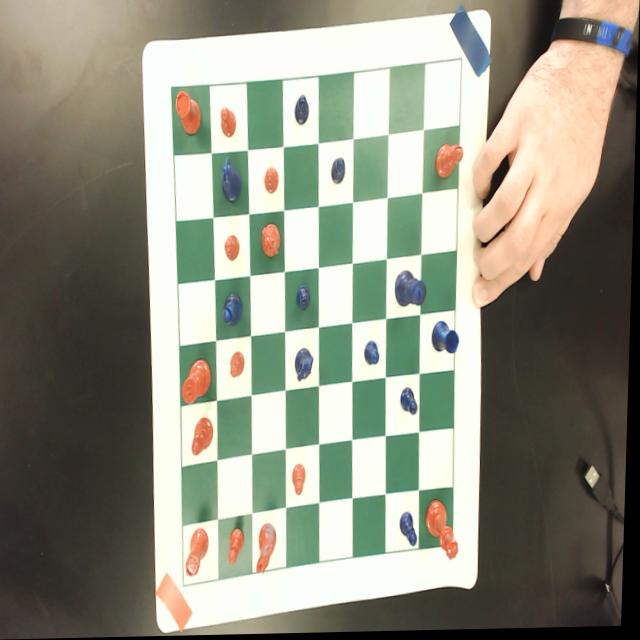B: (225, 292, 245, 328)
K: (396, 270, 429, 310)
N: (220, 155, 243, 204), (296, 347, 317, 383)
P: (403, 514, 421, 549), (402, 389, 421, 419), (295, 96, 311, 128), (331, 157, 347, 188), (366, 343, 382, 368), (298, 285, 312, 313)
R: (434, 322, 462, 356)
b: (436, 141, 465, 182), (194, 418, 217, 458)
k: (184, 359, 214, 406)
n: (257, 523, 281, 578), (261, 223, 283, 261)
p: (231, 526, 248, 567), (293, 464, 310, 498), (221, 107, 237, 140), (232, 351, 248, 381), (225, 236, 241, 264), (265, 168, 280, 196)
q: (428, 501, 463, 564)
r: (175, 89, 204, 139), (188, 529, 214, 579)
